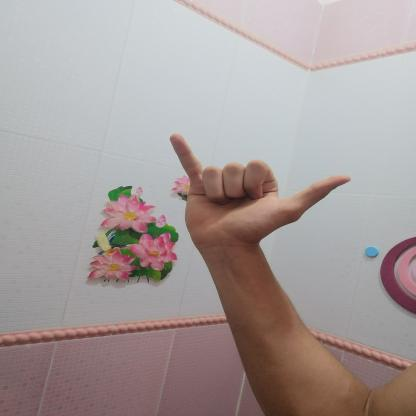YA: (153, 121, 364, 259)
